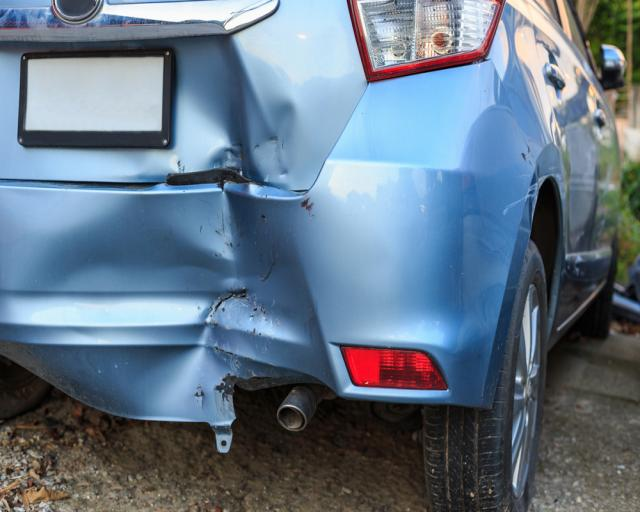dent: (19, 191, 330, 422), (182, 38, 304, 191)
